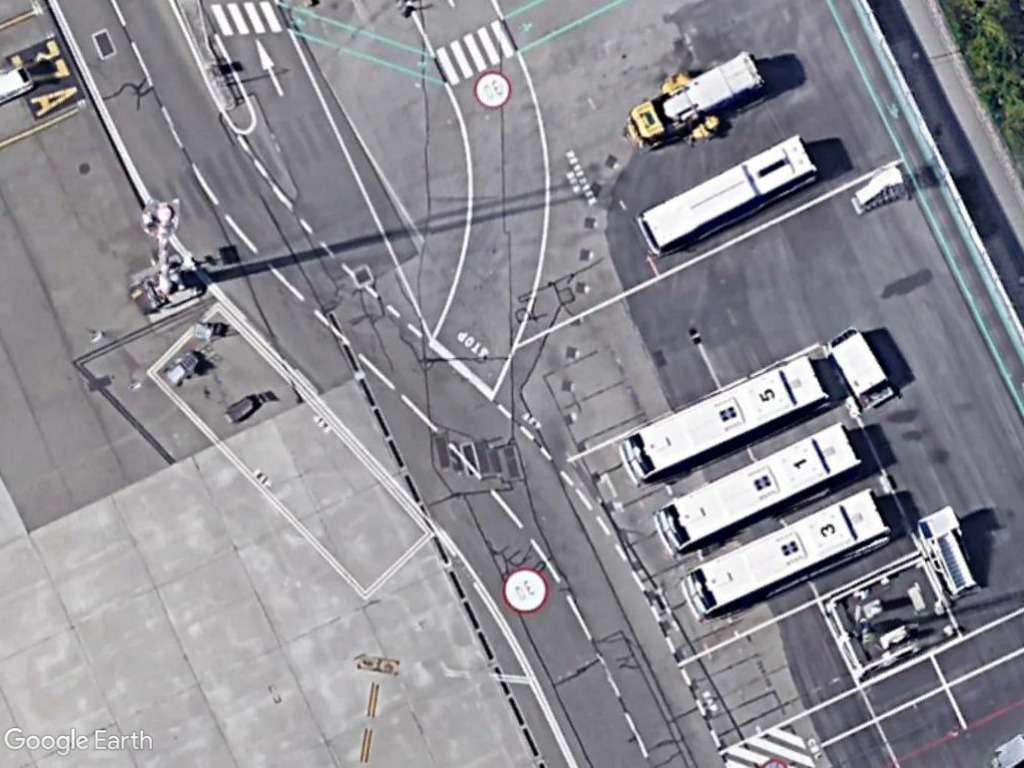bus: (679, 483, 891, 622), (653, 415, 862, 554), (618, 355, 827, 486), (633, 133, 823, 260)
others: (622, 52, 766, 151)
stairtruck: (914, 507, 982, 598)
